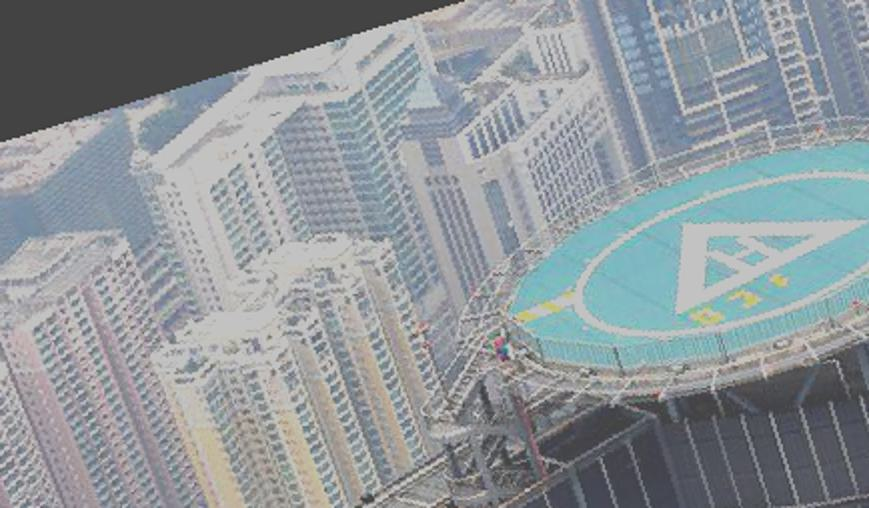Apron: (573, 161, 869, 344)
